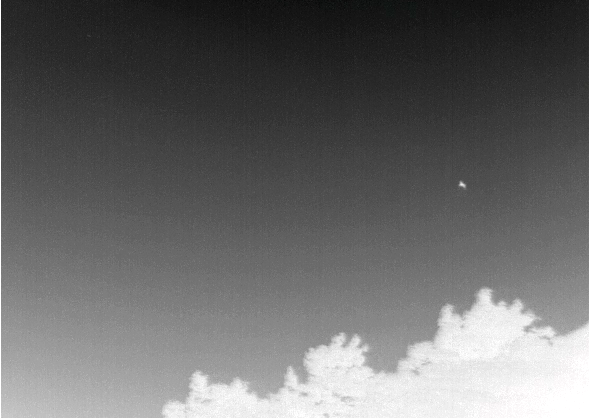dim target: (457, 180, 467, 189)
